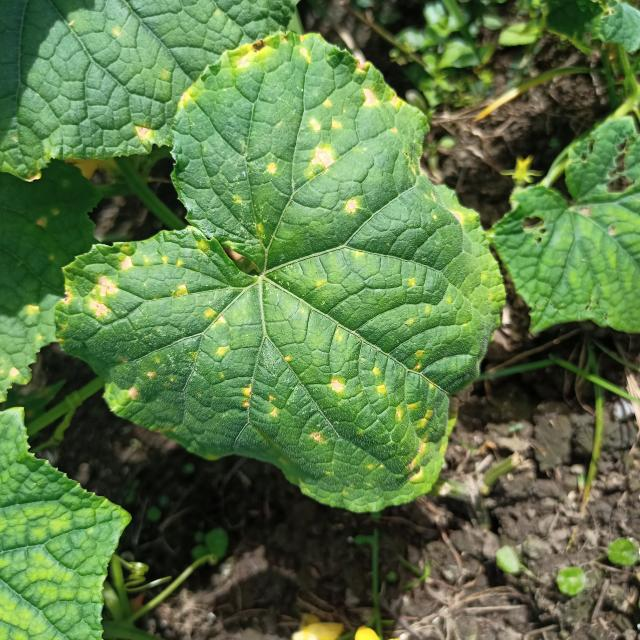disease_cucumber: (72, 41, 487, 504)
